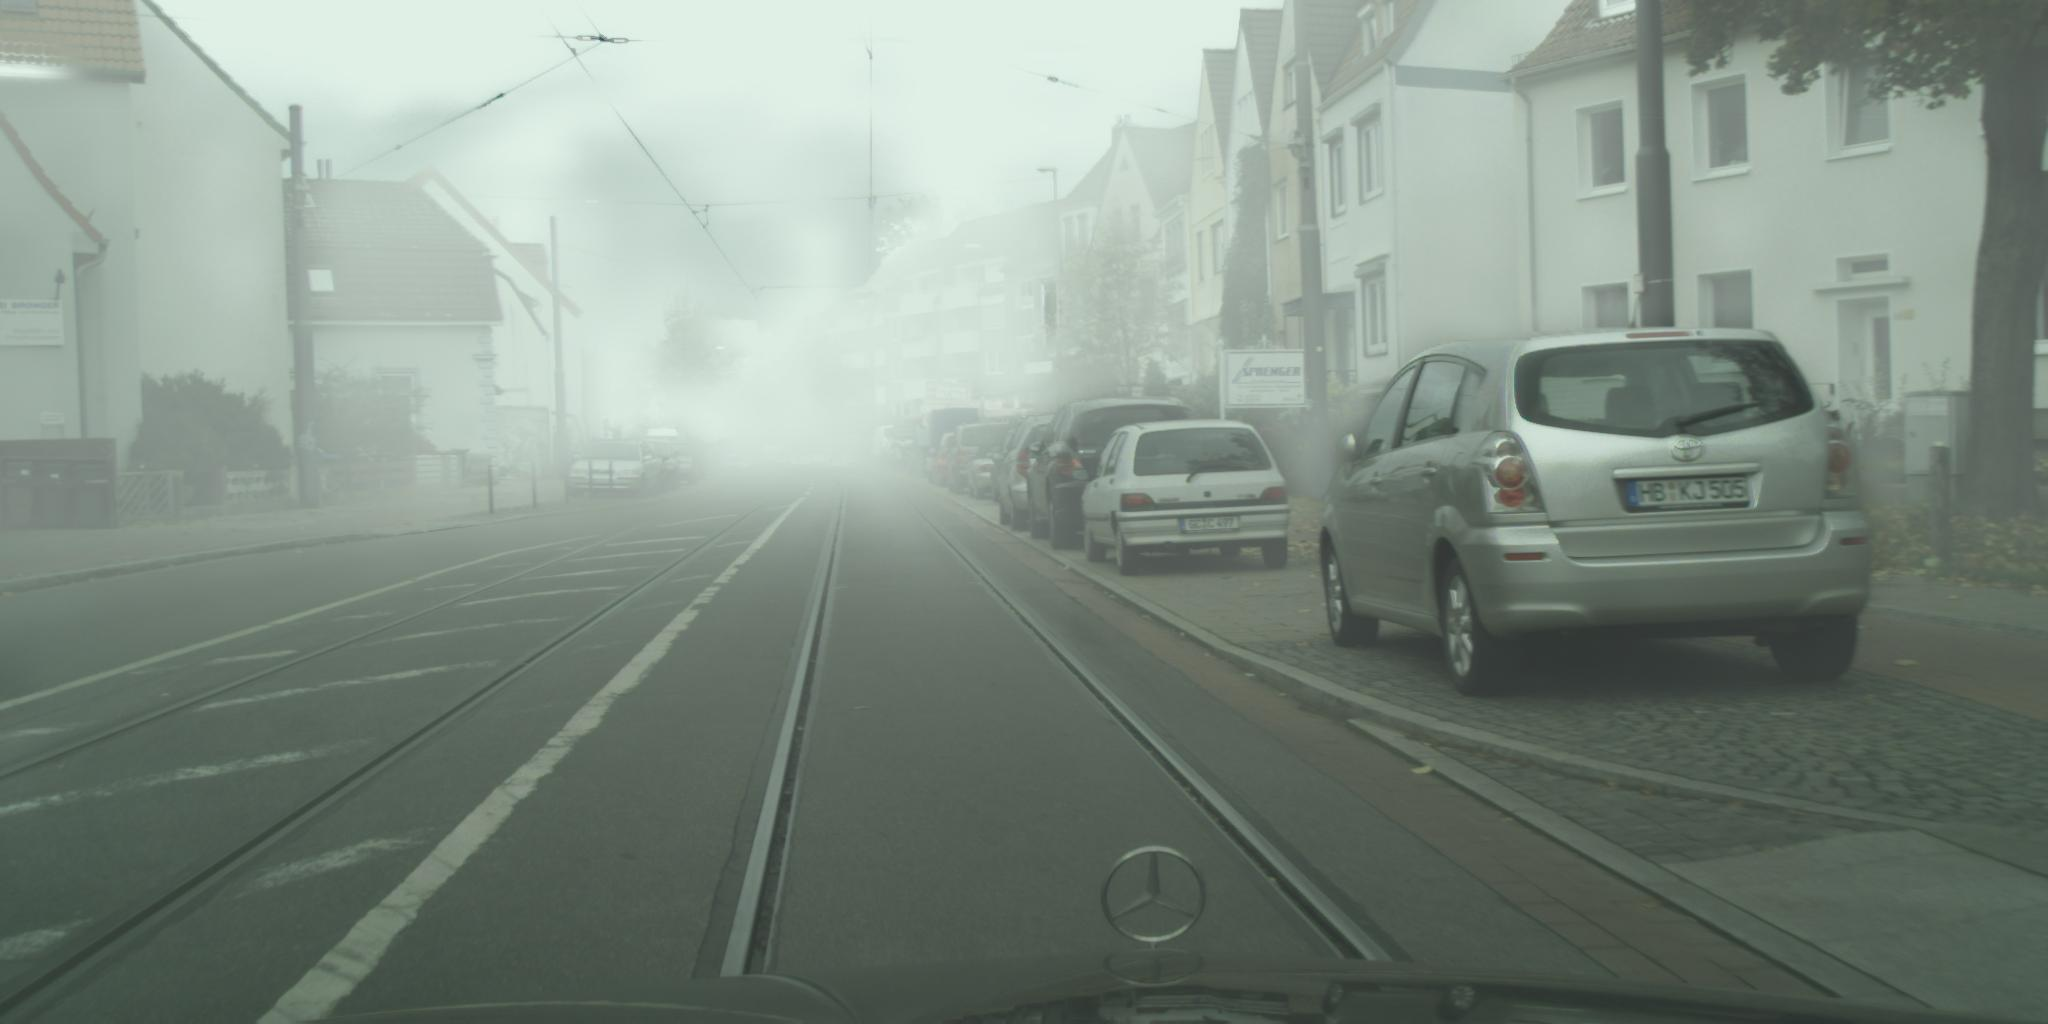car: (1318, 327, 1873, 701), (1074, 421, 1292, 579), (1028, 398, 1203, 552), (995, 415, 1075, 534), (947, 423, 1031, 496), (567, 439, 666, 499), (620, 438, 682, 492), (965, 439, 1010, 502), (991, 430, 1021, 505), (879, 424, 921, 474), (933, 434, 969, 488), (870, 426, 910, 472), (903, 427, 938, 479), (828, 438, 876, 468), (714, 439, 754, 469), (755, 436, 788, 465)
